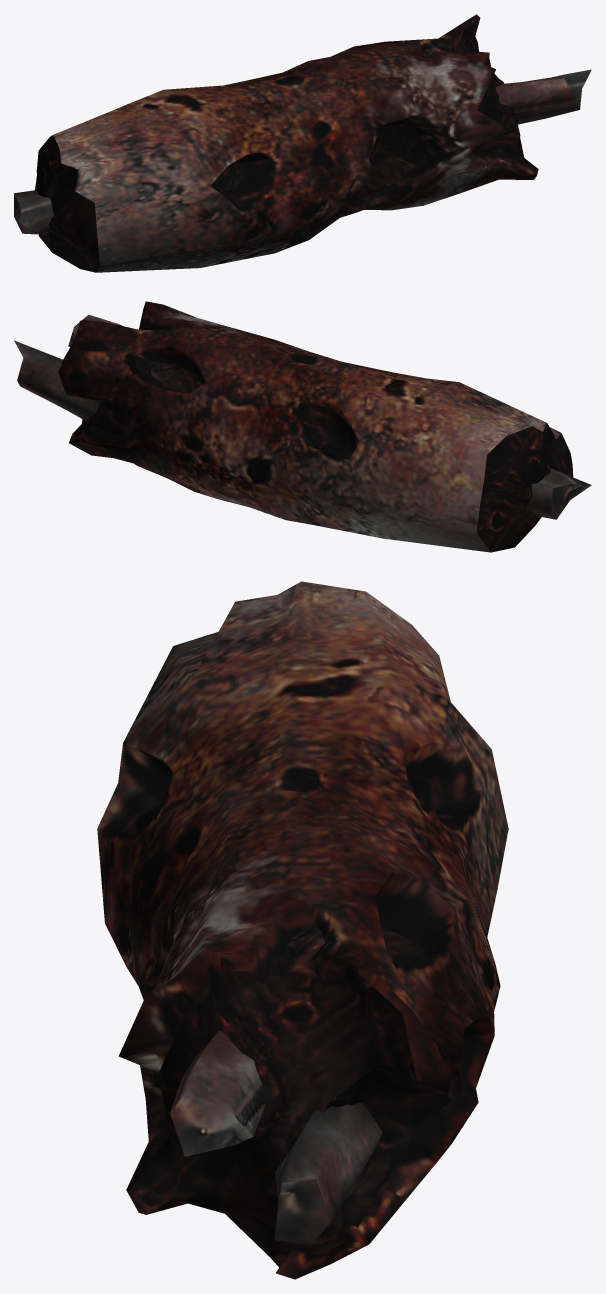
File: Giblet_Arm.DAE
The picture shows the model from 3 angles, top to bottom: view 1: azimuth 30°, elevation 25°; view 2: azimuth 150°, elevation 25°; view 3: azimuth 270°, elevation 25°; orthographic projection. The views are drawn at different scales.
Parts seen in each view (by area): view 1: Giblet_Arm; view 2: Giblet_Arm; view 3: Giblet_Arm.
Part boxes in pixels (bbox=[...]): Giblet_Arm: bbox=[14, 14, 591, 272]; Giblet_Arm: bbox=[14, 301, 591, 552]; Giblet_Arm: bbox=[97, 581, 508, 1279].
Bounding box in the file's own units: 33.92 × 10.54 × 8.6.
